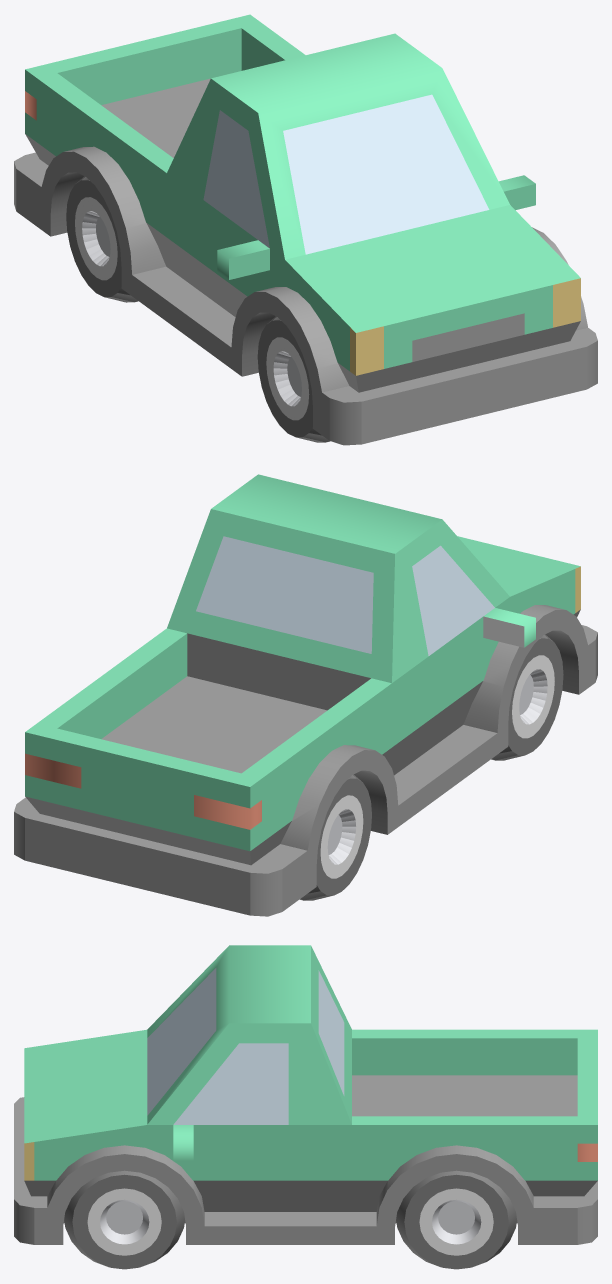
Rendered from car2.fbx.
3 views of the same model, one above another, from view 1: azimuth 30°, elevation 25°; view 2: azimuth 150°, elevation 25°; view 3: azimuth 270°, elevation 25° (orthographic). The views are drawn at different scales.
Parts seen in each view (by area): view 1: car.001; view 2: car.001; view 3: car.001.
Boxes of the visible parts, <box> form: car.001: <box>14,14,597,445</box>; car.001: <box>14,474,597,916</box>; car.001: <box>14,945,597,1269</box>.
Size of the model in its own units: 240 by 208 by 456.
